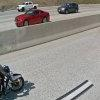Car: (11, 9, 52, 27)
